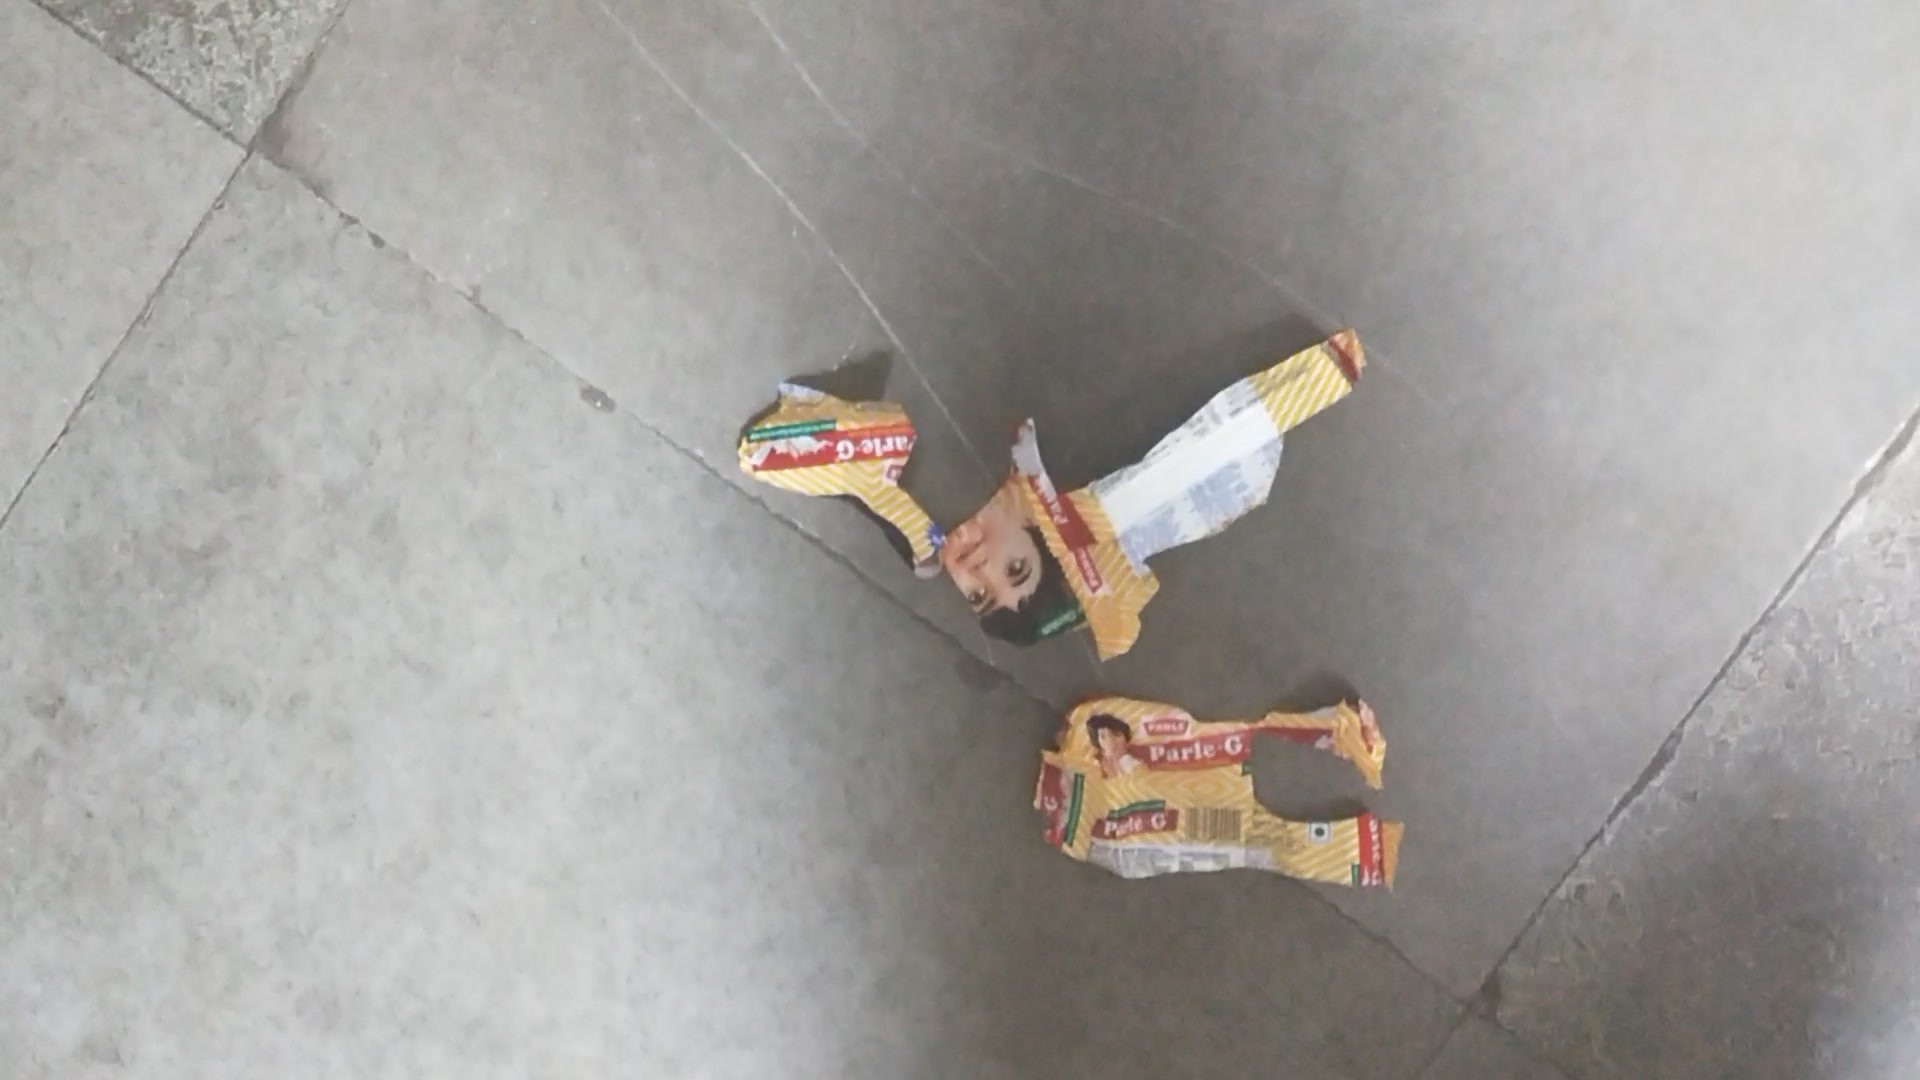parle-g-b: (775, 345, 1335, 626), (1042, 704, 1370, 885)
